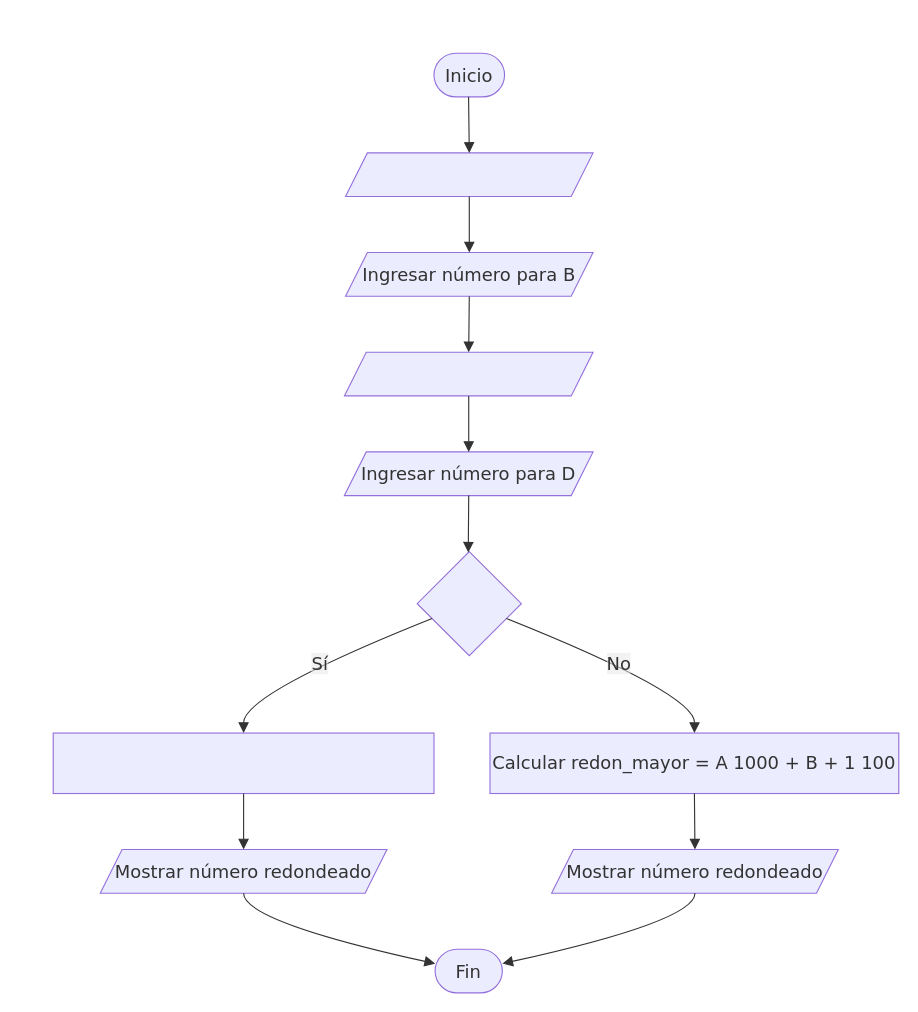
Image size: 918x1012. Some labels were removed from this diagram. The shapes that lost their labels are listed below. From the top down, each one's centre as x and y in pixels, then its label:
point (468, 174): Ingresar número para A
point (468, 373): Ingresar número para C
point (468, 603): ¿C < 5?
point (243, 763): Calcular redon_menor = A 1000 + B 100
